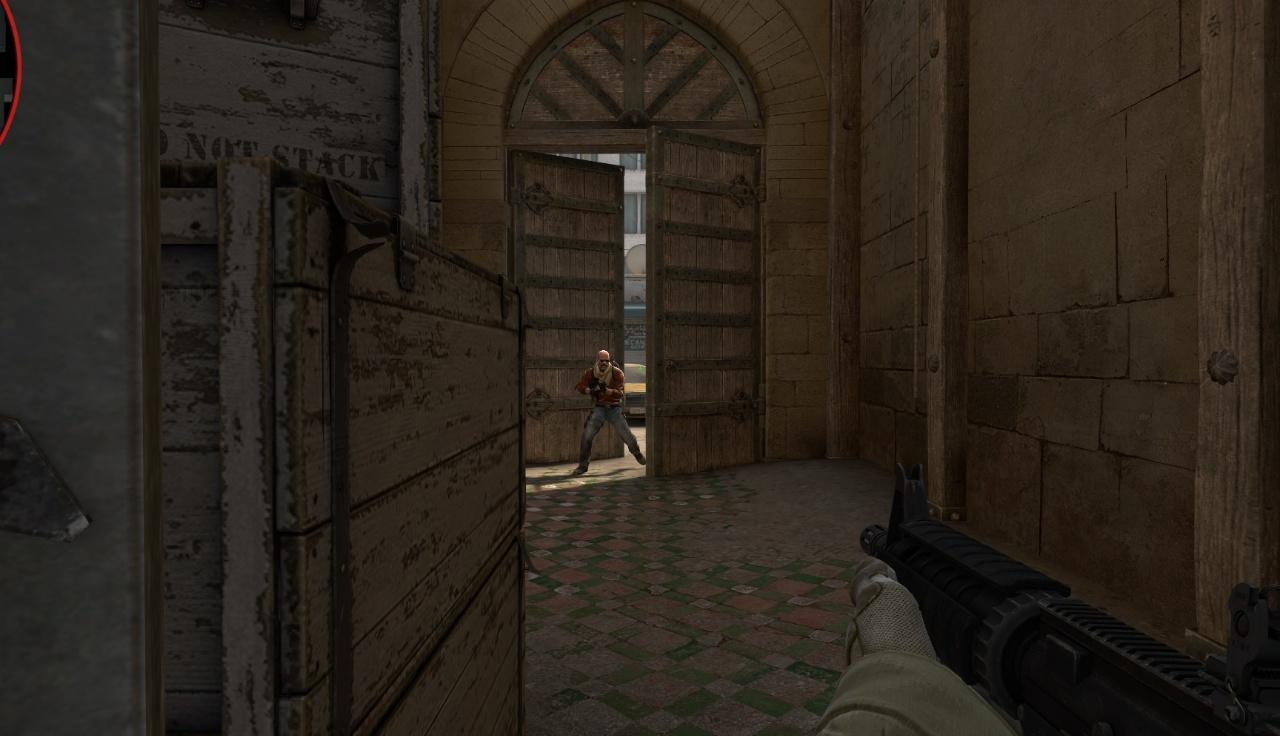rifle: (849, 457, 1280, 736)
tt: (573, 350, 646, 475)
tthead: (596, 351, 610, 371)
